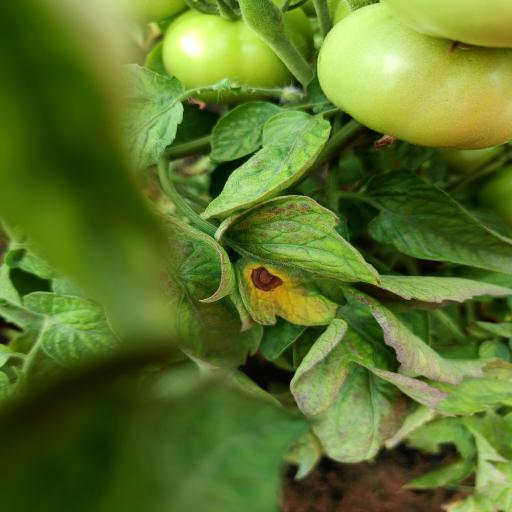disease_tomato: (229, 194, 379, 334)
